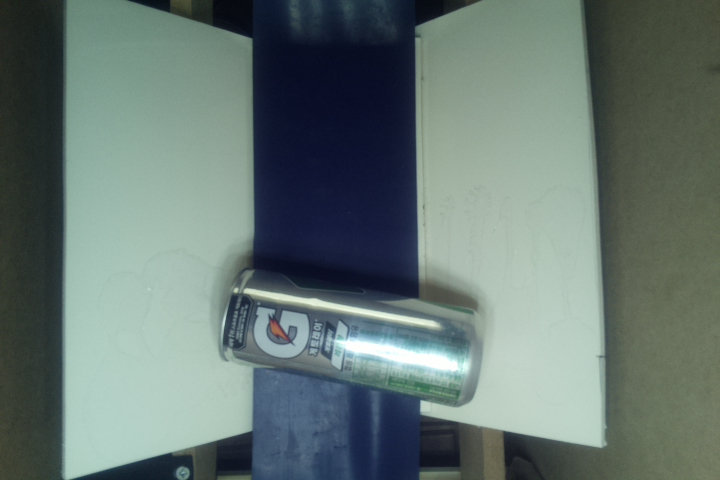can: (216, 267, 483, 407)
